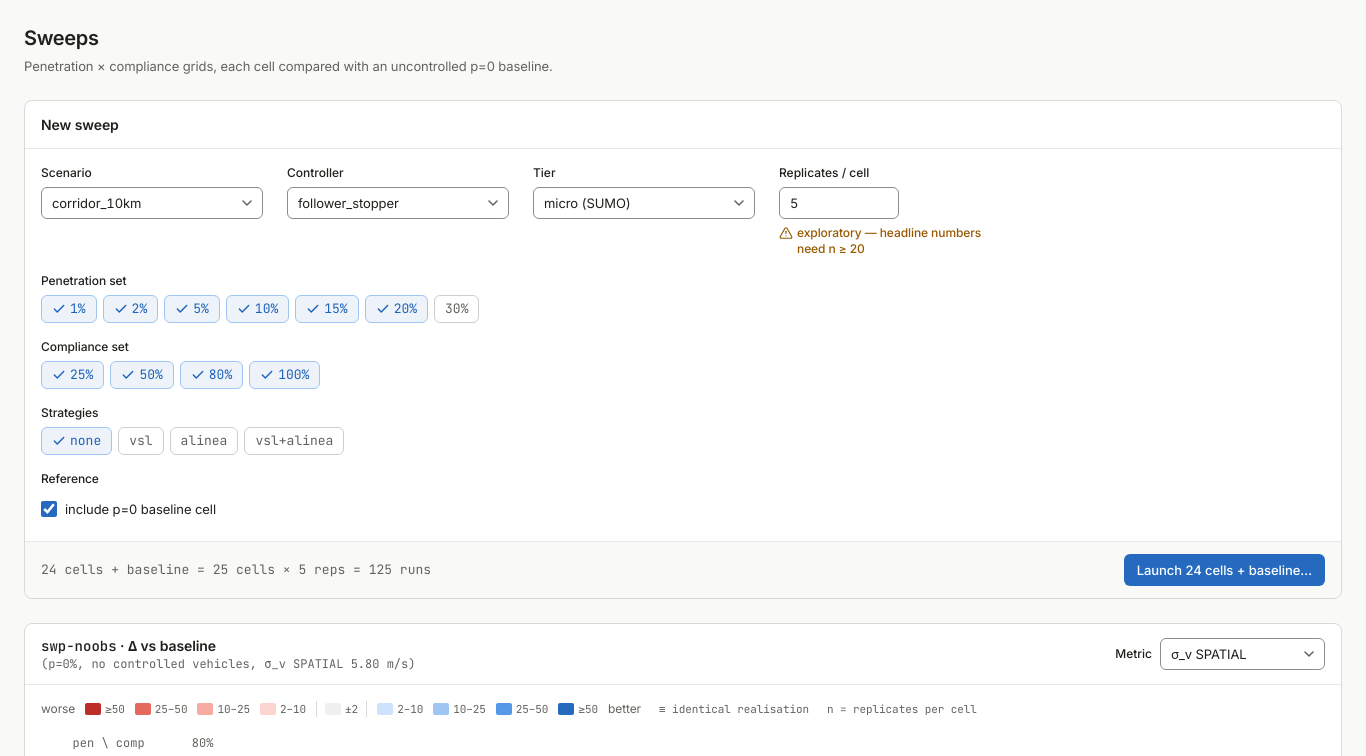
Test: SweepsView (real API shapes) › says "no observations" where the API reports none, instead of a delta
The image size is (1366, 756).
Select "WAVE AMPLITUDE" in the dropdown labelled "Metric". click: (1242, 654)
box: [1160,638,1325,670]
(page scrolled)
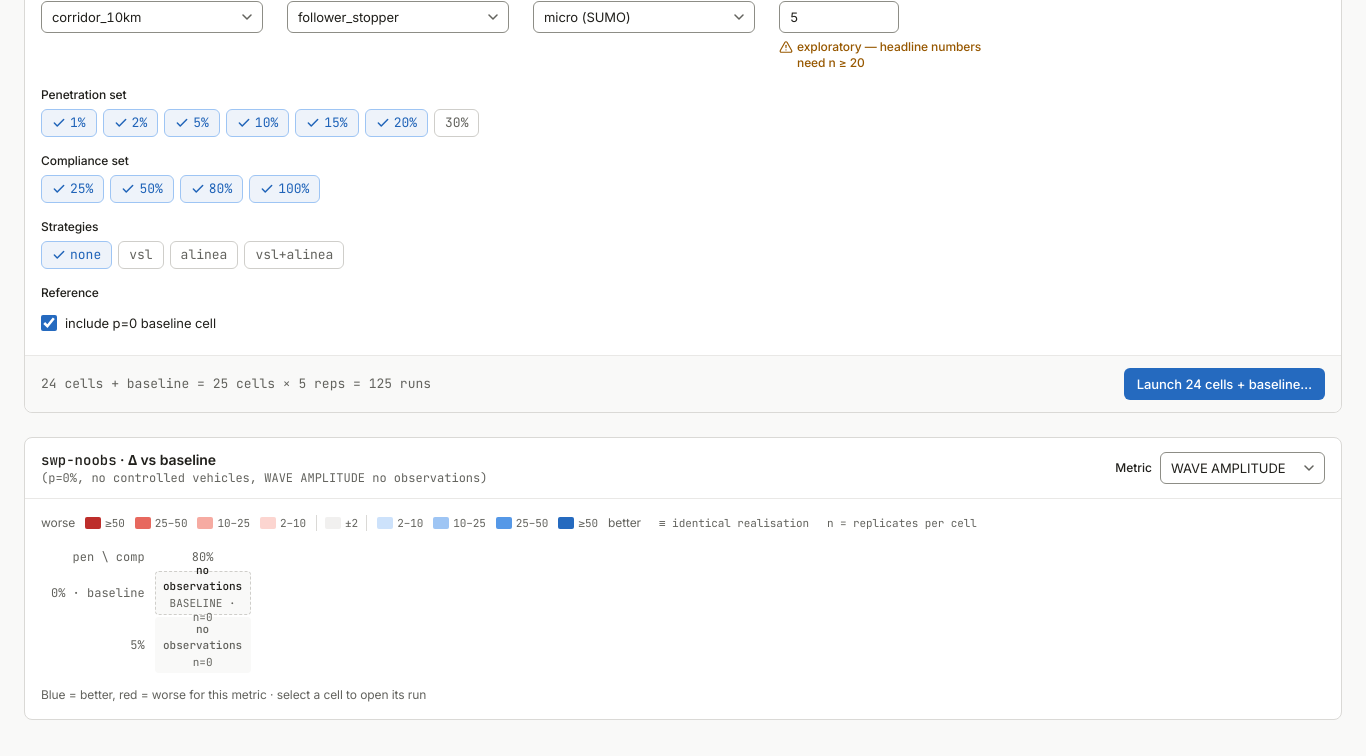
Expected: the text "no observations" is shown 2 times, [162,562,244,594]; [161,621,245,653]
Now the text "BASELINE · n=0" is shown, box [170,596,236,624]
